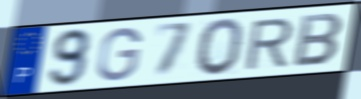7: (153, 23, 193, 81)
9: (45, 27, 92, 89)
B: (291, 12, 346, 69)
G: (94, 26, 144, 83)
O: (194, 17, 246, 79)
R: (243, 16, 296, 72)
